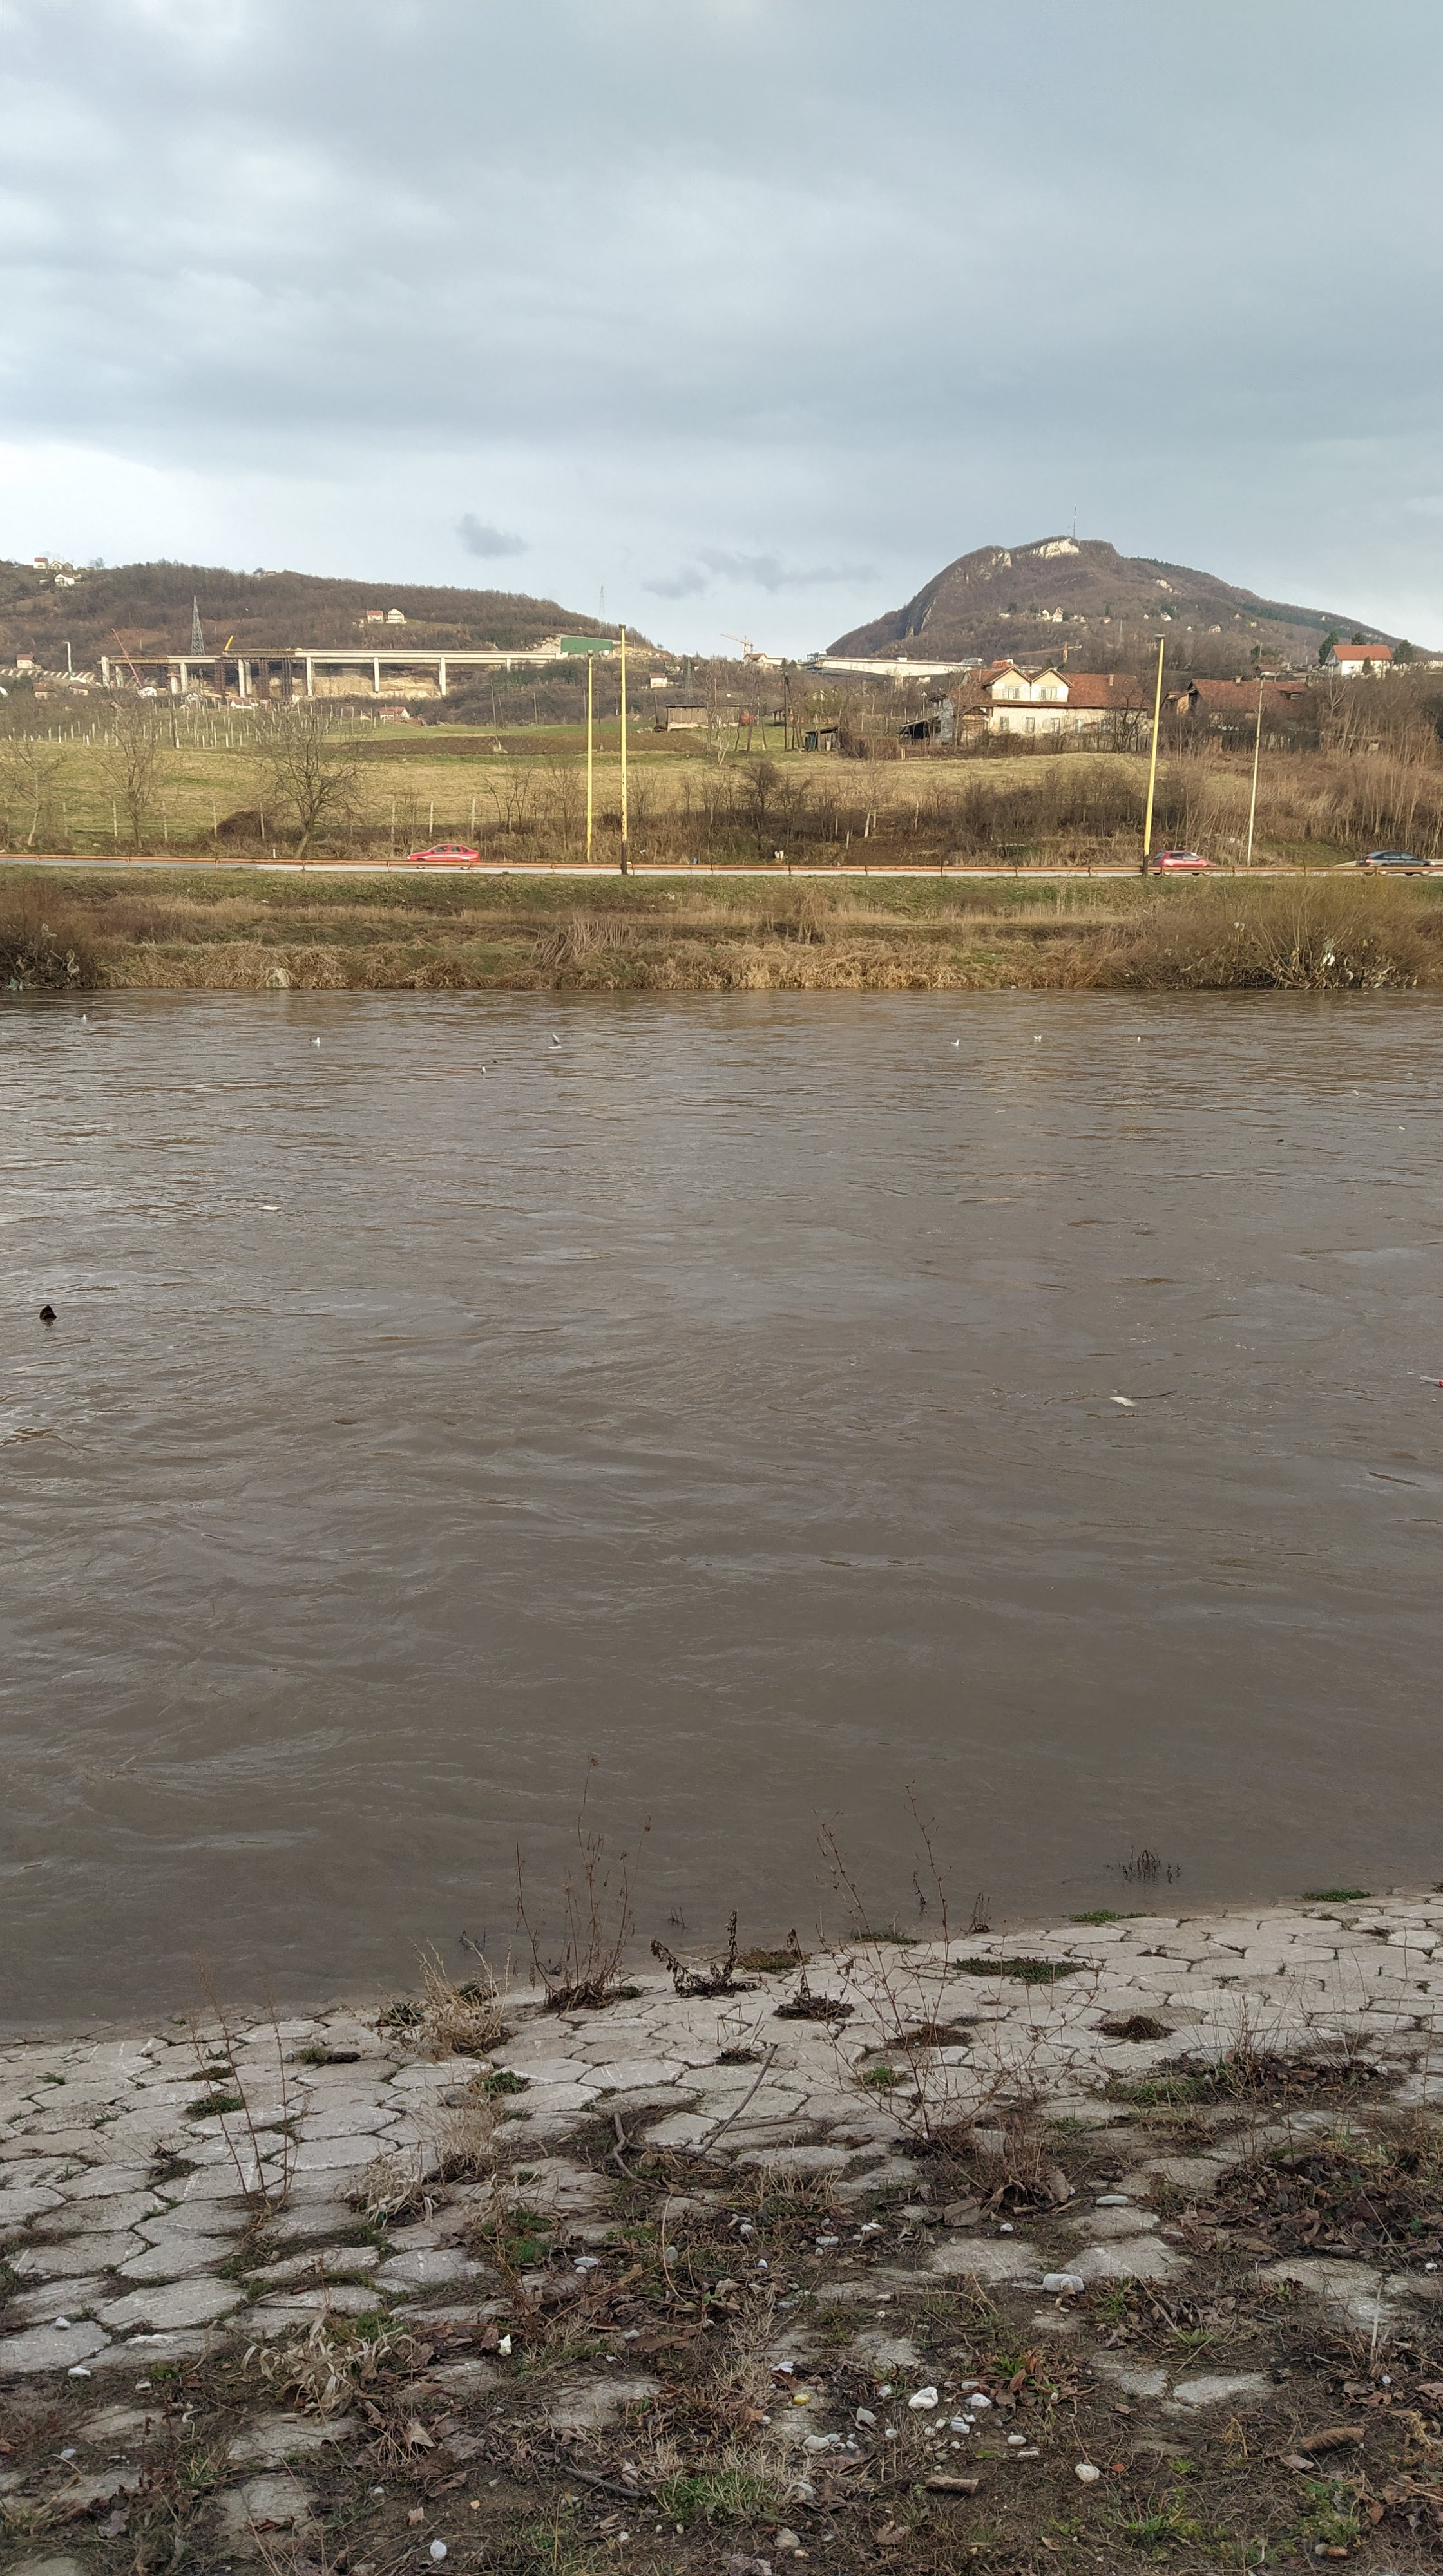Plastic Bottle: (1420, 1375, 1443, 1385), (260, 1205, 282, 1212), (549, 1044, 561, 1051), (1353, 1090, 1358, 1097), (1399, 1125, 1404, 1129)
